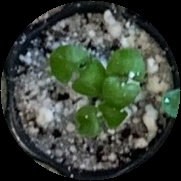Basil: (50, 45, 105, 97), (103, 47, 142, 105), (70, 104, 126, 137)
